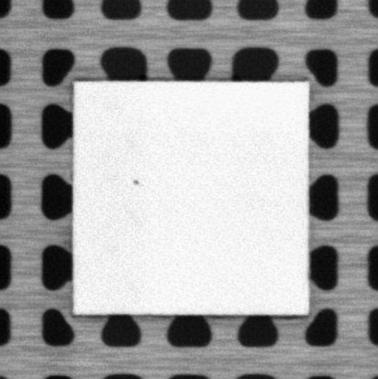DIE_INK: (131, 177, 141, 188)
